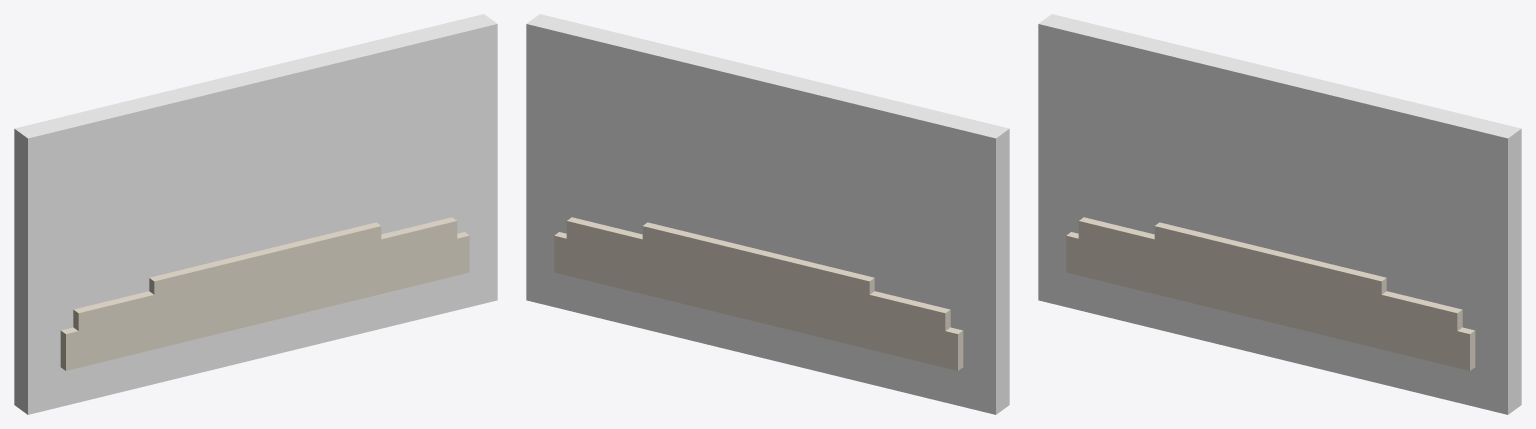
File: MOD_SERVICE_WINDOW_CAFE_001_LOD_CLOSE.glb
3 renders of one model, left to right at view 1: azimuth 30°, elevation 25°; view 2: azimuth 150°, elevation 25°; view 3: azimuth 330°, elevation 25°, orthographic.
Parts seen in each view (by area): view 1: MOD_SERVICE_WINDOW_CAFE_001_BAKERY_DISPLAY_COUNTER_OPENING_C (×2), MOD_SERVICE_WINDOW_CAFE_001_SPLIT_SERVICE_DISPLAY_WINDOW_CLO (×2), MOD_SERVICE_WINDOW_CAFE_001_FULL_WIDTH_SERVICE_WINDOW_CLOSE_ (×2), MOD_SERVICE_WINDOW_CAFE_001_COMPACT_TAKEAWAY_HATCH_CLOSE_FRA, MOD_SERVICE_WINDOW_CAFE_001_COMPACT_TAKEAWAY_HATCH_CLOSE_COU; view 2: MOD_SERVICE_WINDOW_CAFE_001_SPLIT_SERVICE_DISPLAY_WINDOW_CLO, MOD_SERVICE_WINDOW_CAFE_001_BAKERY_DISPLAY_COUNTER_OPENING_C (×2), MOD_SERVICE_WINDOW_CAFE_001_FULL_WIDTH_SERVICE_WINDOW_CLOSE_ (×2), MOD_SERVICE_WINDOW_CAFE_001_COMPACT_TAKEAWAY_HATCH_CLOSE_FRA, MOD_SERVICE_WINDOW_CAFE_001_COMPACT_TAKEAWAY_HATCH_CLOSE_COU; view 3: MOD_SERVICE_WINDOW_CAFE_001_SPLIT_SERVICE_DISPLAY_WINDOW_CLO, MOD_SERVICE_WINDOW_CAFE_001_BAKERY_DISPLAY_COUNTER_OPENING_C (×2), MOD_SERVICE_WINDOW_CAFE_001_FULL_WIDTH_SERVICE_WINDOW_CLOSE_ (×2), MOD_SERVICE_WINDOW_CAFE_001_COMPACT_TAKEAWAY_HATCH_CLOSE_FRA, MOD_SERVICE_WINDOW_CAFE_001_COMPACT_TAKEAWAY_HATCH_CLOSE_COU.
Boxes of the visible parts, x1,y1,x2,y2 form: MOD_SERVICE_WINDOW_CAFE_001_BAKERY_DISPLAY_COUNTER_OPENING_C (×2): [14, 14, 497, 414]; MOD_SERVICE_WINDOW_CAFE_001_SPLIT_SERVICE_DISPLAY_WINDOW_CLO (×2): [57, 46, 468, 382]; MOD_SERVICE_WINDOW_CAFE_001_FULL_WIDTH_SERVICE_WINDOW_CLOSE_ (×2): [42, 58, 482, 378]; MOD_SERVICE_WINDOW_CAFE_001_COMPACT_TAKEAWAY_HATCH_CLOSE_FRA: [130, 103, 394, 295]; MOD_SERVICE_WINDOW_CAFE_001_COMPACT_TAKEAWAY_HATCH_CLOSE_COU: [149, 222, 381, 311]; MOD_SERVICE_WINDOW_CAFE_001_SPLIT_SERVICE_DISPLAY_WINDOW_CLO: [555, 46, 966, 392]; MOD_SERVICE_WINDOW_CAFE_001_BAKERY_DISPLAY_COUNTER_OPENING_C (×2): [526, 14, 1009, 414]; MOD_SERVICE_WINDOW_CAFE_001_FULL_WIDTH_SERVICE_WINDOW_CLOSE_ (×2): [541, 58, 981, 380]; MOD_SERVICE_WINDOW_CAFE_001_COMPACT_TAKEAWAY_HATCH_CLOSE_FRA: [629, 103, 893, 295]; MOD_SERVICE_WINDOW_CAFE_001_COMPACT_TAKEAWAY_HATCH_CLOSE_COU: [642, 222, 874, 294]; MOD_SERVICE_WINDOW_CAFE_001_SPLIT_SERVICE_DISPLAY_WINDOW_CLO: [1067, 46, 1478, 392]; MOD_SERVICE_WINDOW_CAFE_001_BAKERY_DISPLAY_COUNTER_OPENING_C (×2): [1038, 14, 1521, 414]; MOD_SERVICE_WINDOW_CAFE_001_FULL_WIDTH_SERVICE_WINDOW_CLOSE_ (×2): [1053, 58, 1493, 380]; MOD_SERVICE_WINDOW_CAFE_001_COMPACT_TAKEAWAY_HATCH_CLOSE_FRA: [1141, 103, 1405, 295]; MOD_SERVICE_WINDOW_CAFE_001_COMPACT_TAKEAWAY_HATCH_CLOSE_COU: [1154, 222, 1386, 294].
Bounding box in the file's own units: 3.2 × 1.8 × 0.28.
